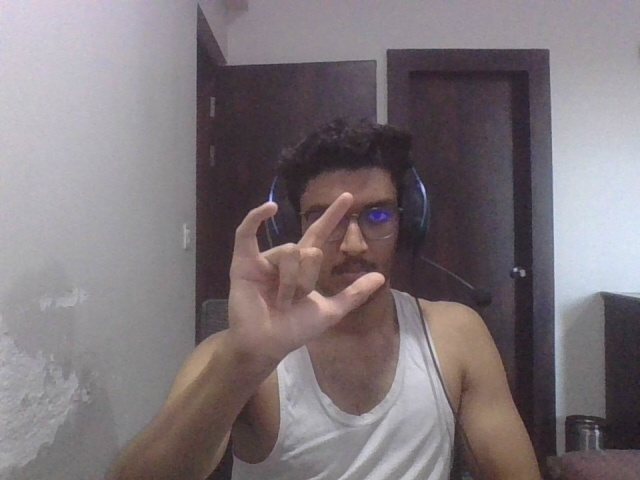I love You: (218, 184, 386, 362)
